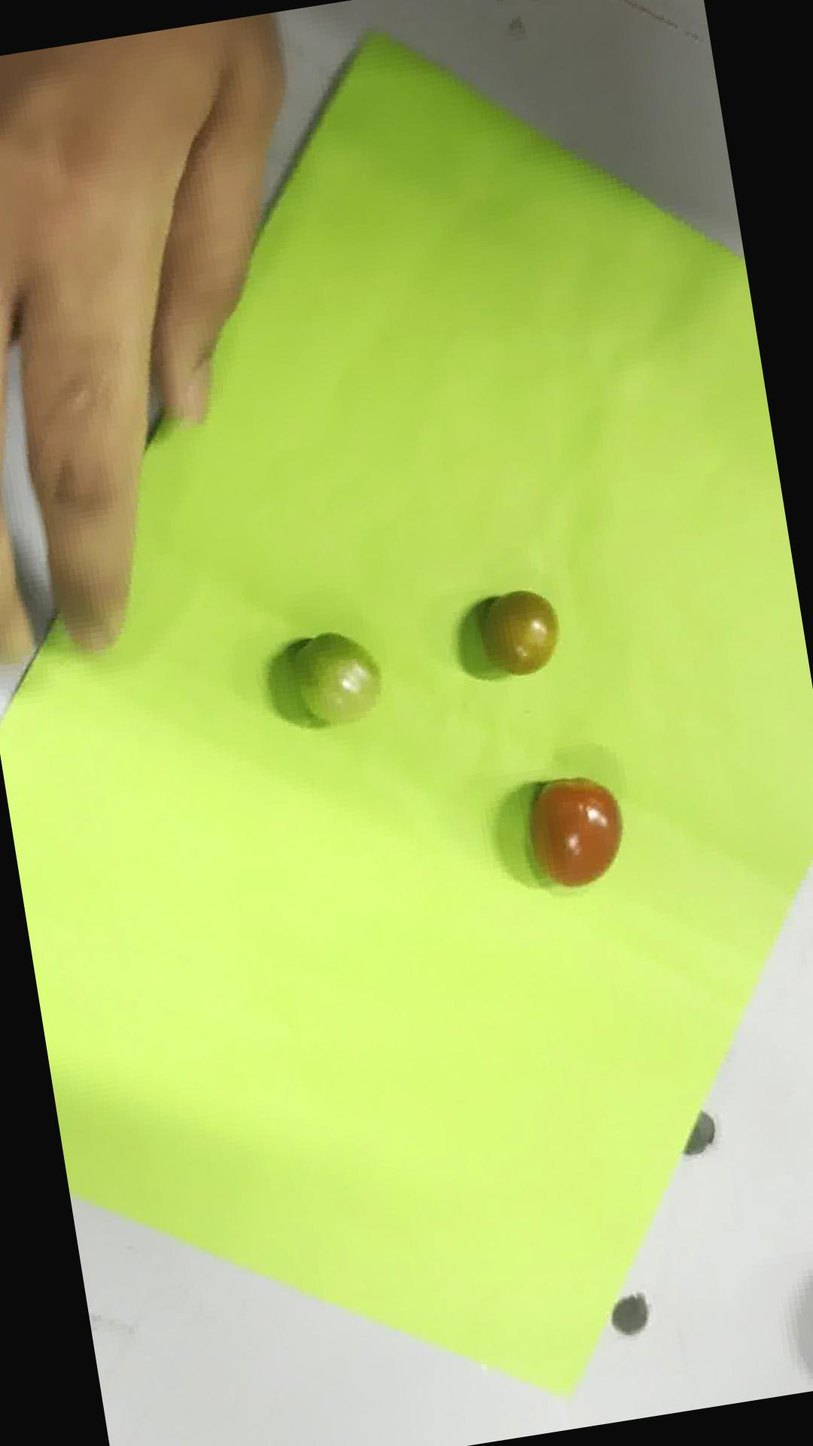green_cherry_tomato: (294, 634, 378, 723)
red_cherry_tomato: (529, 778, 622, 888)
yellow_cherry_tomato: (480, 590, 558, 674)
